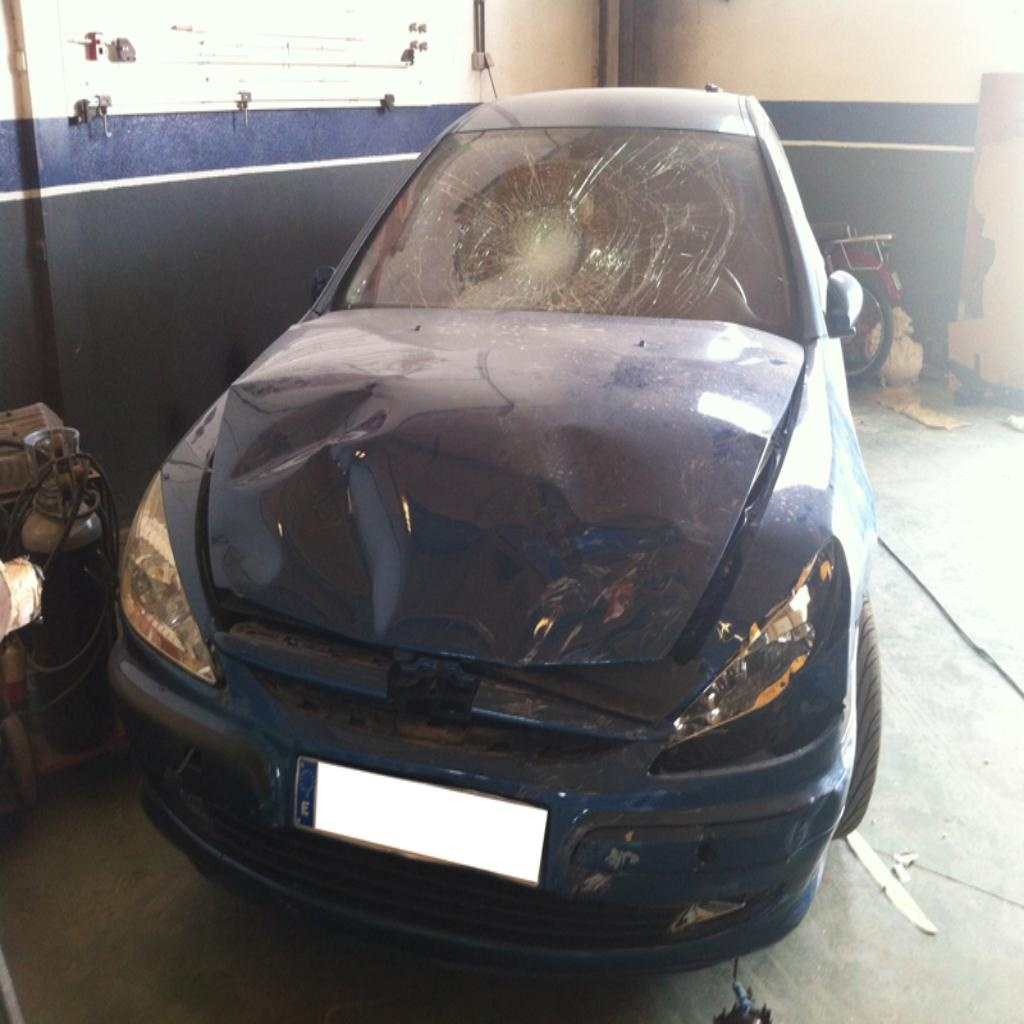Broken-glass: (396, 140, 747, 312), (654, 540, 854, 770)
Dent: (173, 375, 781, 665)
Scratch: (576, 843, 655, 902)
